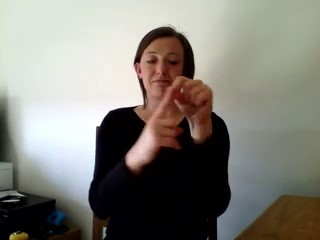P: (139, 71, 212, 167)
